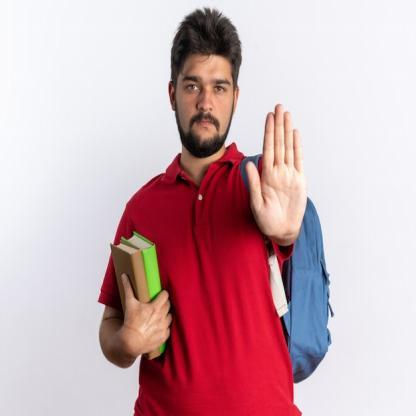stop: (243, 96, 313, 245)
